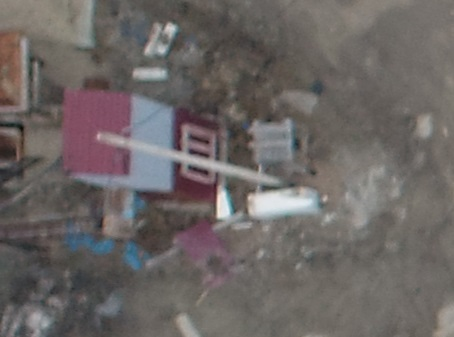opora: (94, 126, 286, 193)
